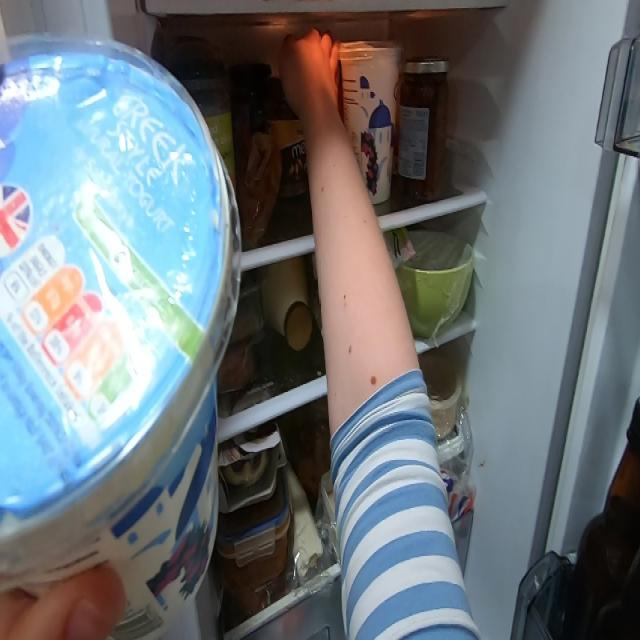fridge: (218, 0, 640, 640)
right hand: (281, 29, 351, 186)
